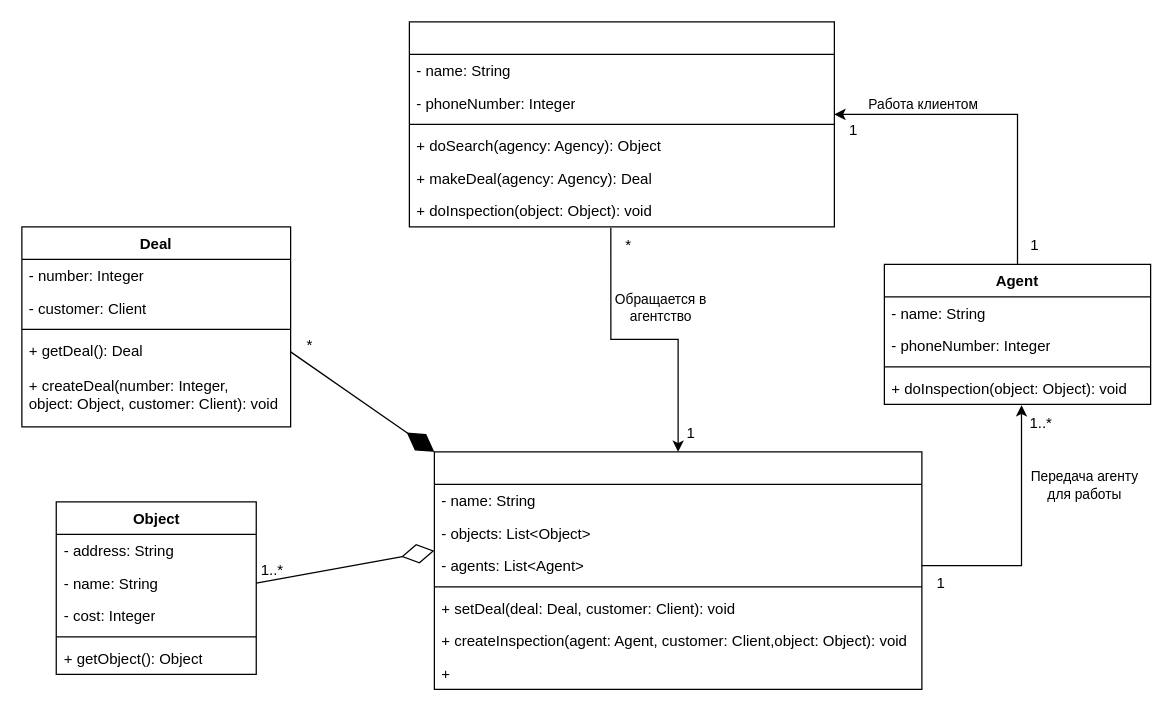
Image size: 1173x715. Some labels were removed from this diagram. The box of each missing label's shape, as (x1, y1, x2, y2) in pixels:
Agency: (433, 451, 922, 689)
Client: (408, 21, 834, 227)
